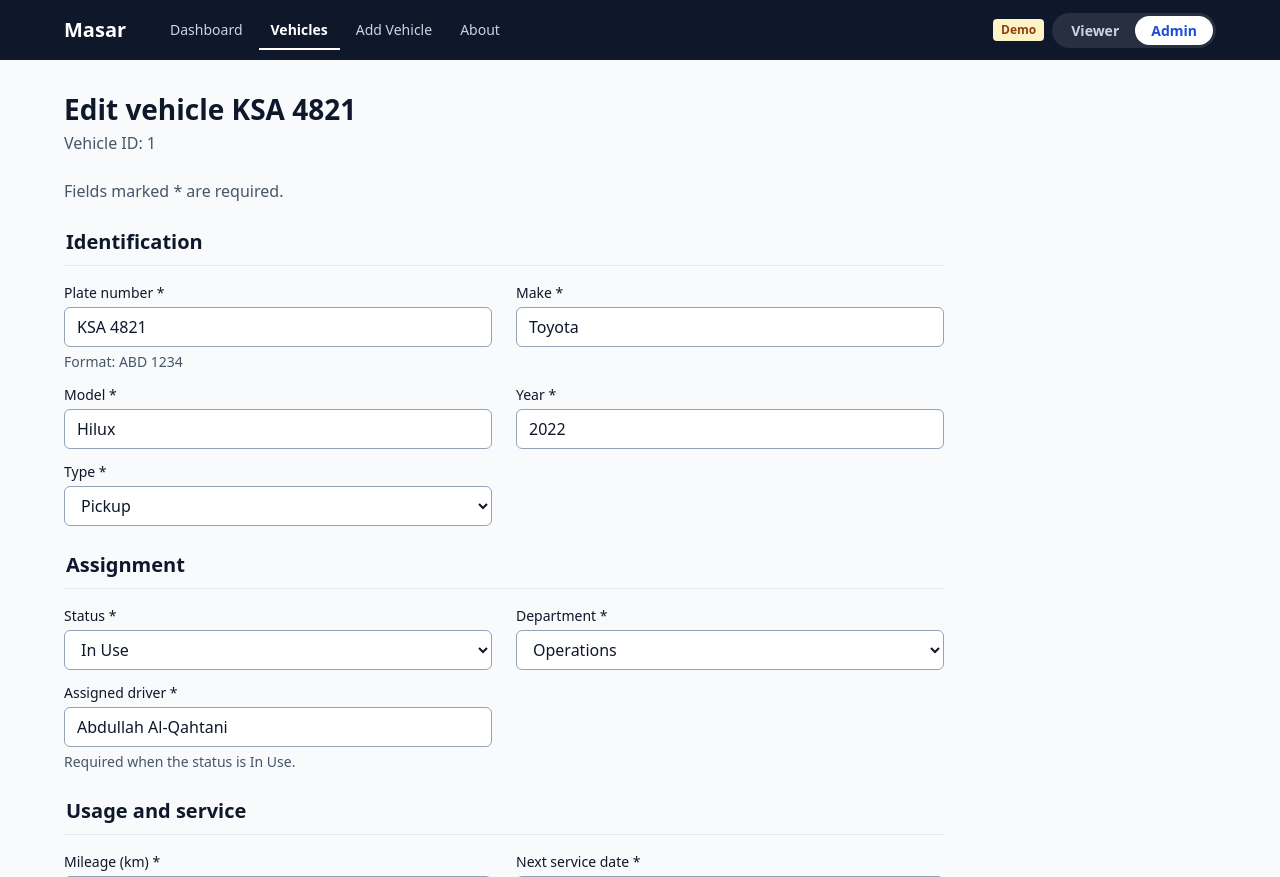
it: Roles (US-10) › switching to Viewer on the edit form replaces it with Access denied (FR-45)
Step 1. Click the radio button labelled "Viewer" → (1095, 30), box [1071,20,1119,40]
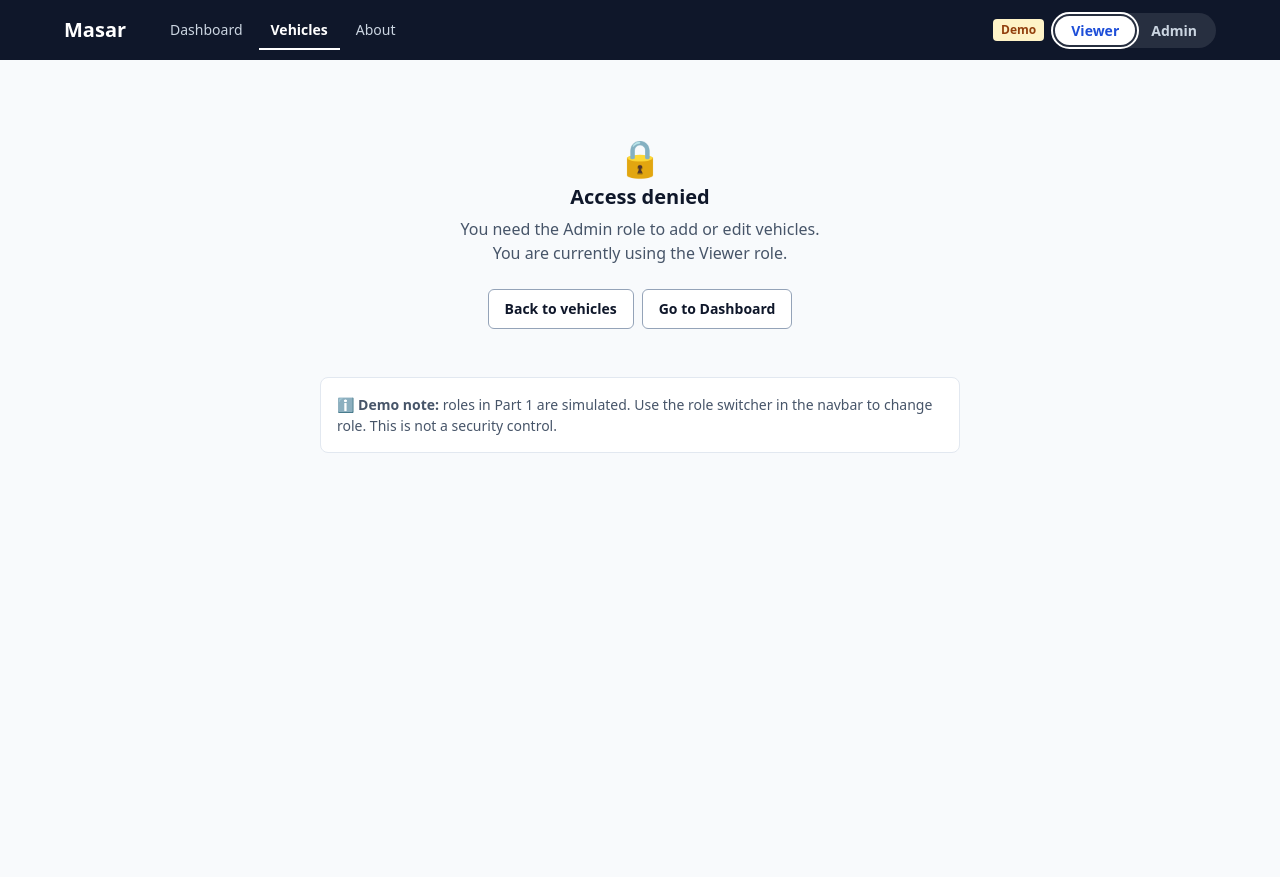
Expected: the heading "Access denied" is shown, [570,184,710,209]
